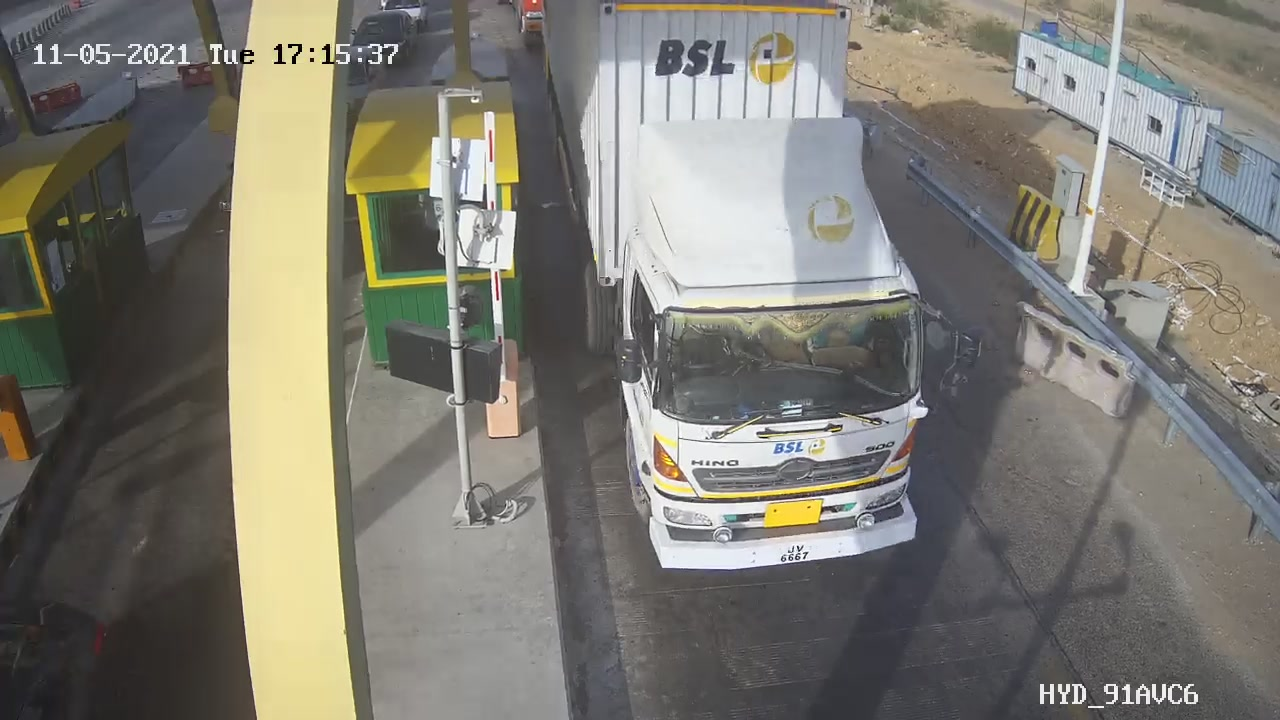F6: (524, 3, 1001, 599)
